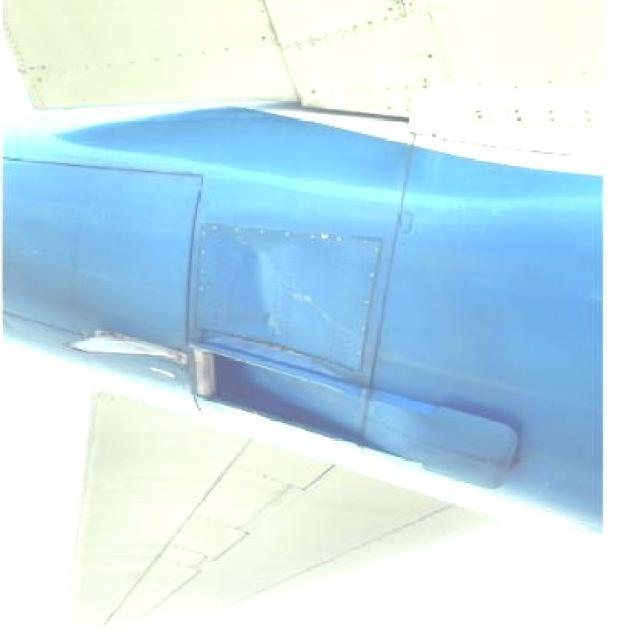dent: (228, 244, 298, 334)
